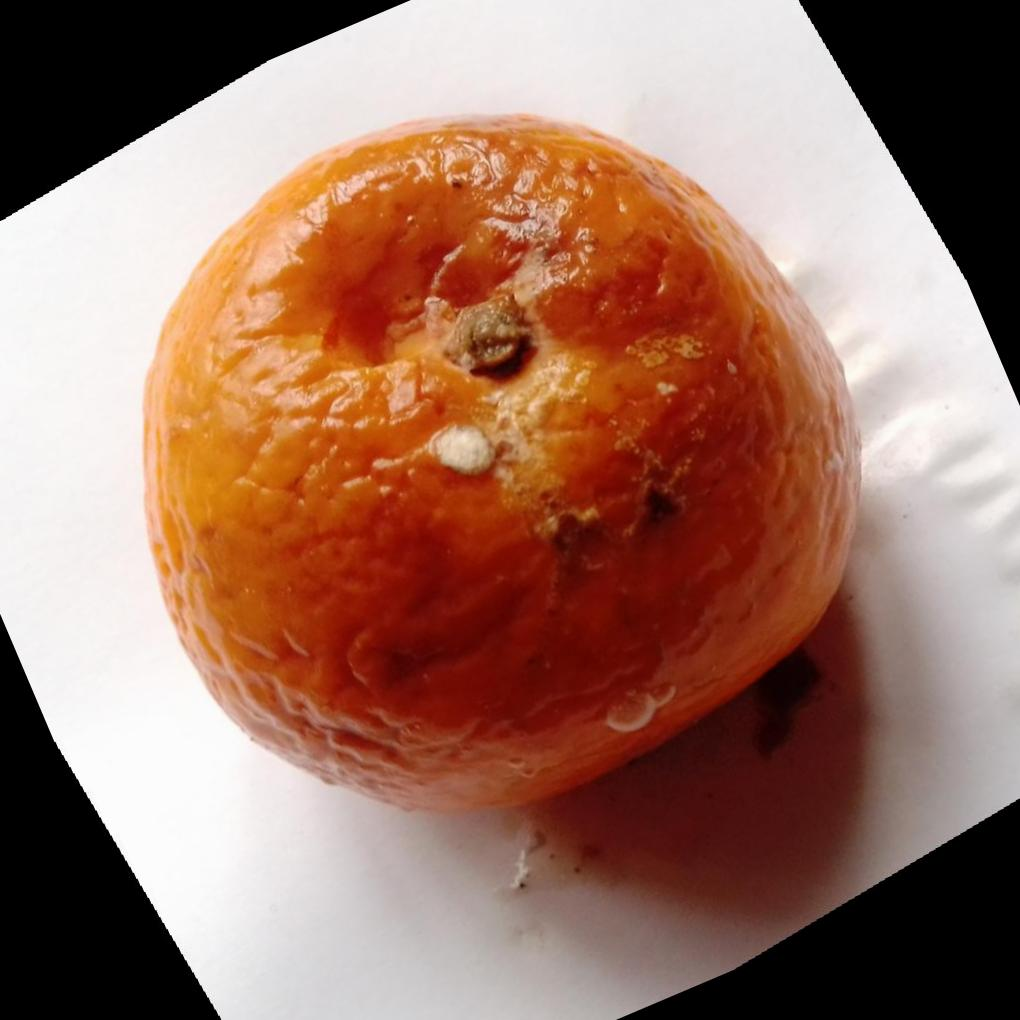FreshOrange: (143, 114, 866, 815)
